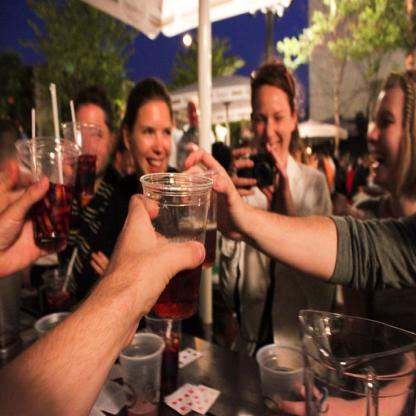drinking: (140, 172, 214, 321), (27, 137, 83, 252), (62, 121, 100, 196)
